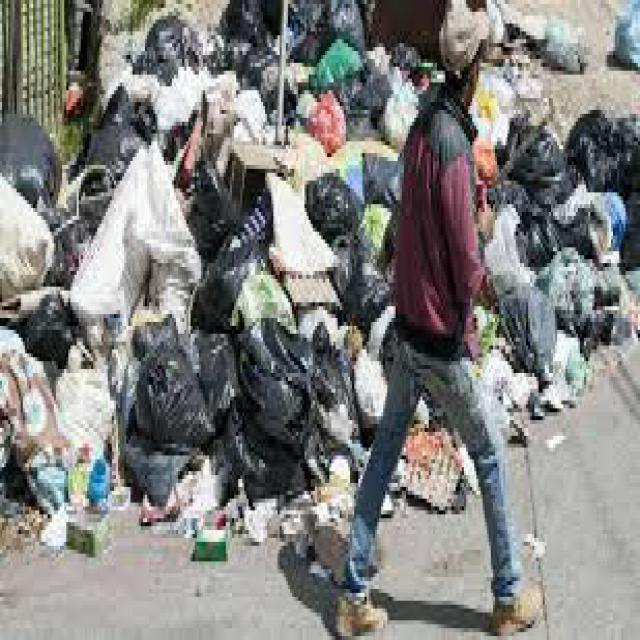Trashbag: (236, 320, 333, 493), (130, 312, 240, 452), (75, 95, 158, 195), (192, 243, 277, 331), (494, 280, 560, 374), (0, 110, 62, 210), (575, 113, 640, 197), (500, 122, 571, 197), (23, 291, 92, 368), (329, 238, 385, 323), (291, 0, 369, 52), (306, 169, 359, 244), (332, 74, 391, 140), (144, 18, 196, 89), (520, 192, 568, 268), (237, 38, 284, 88), (366, 150, 405, 208), (219, 0, 264, 42)
